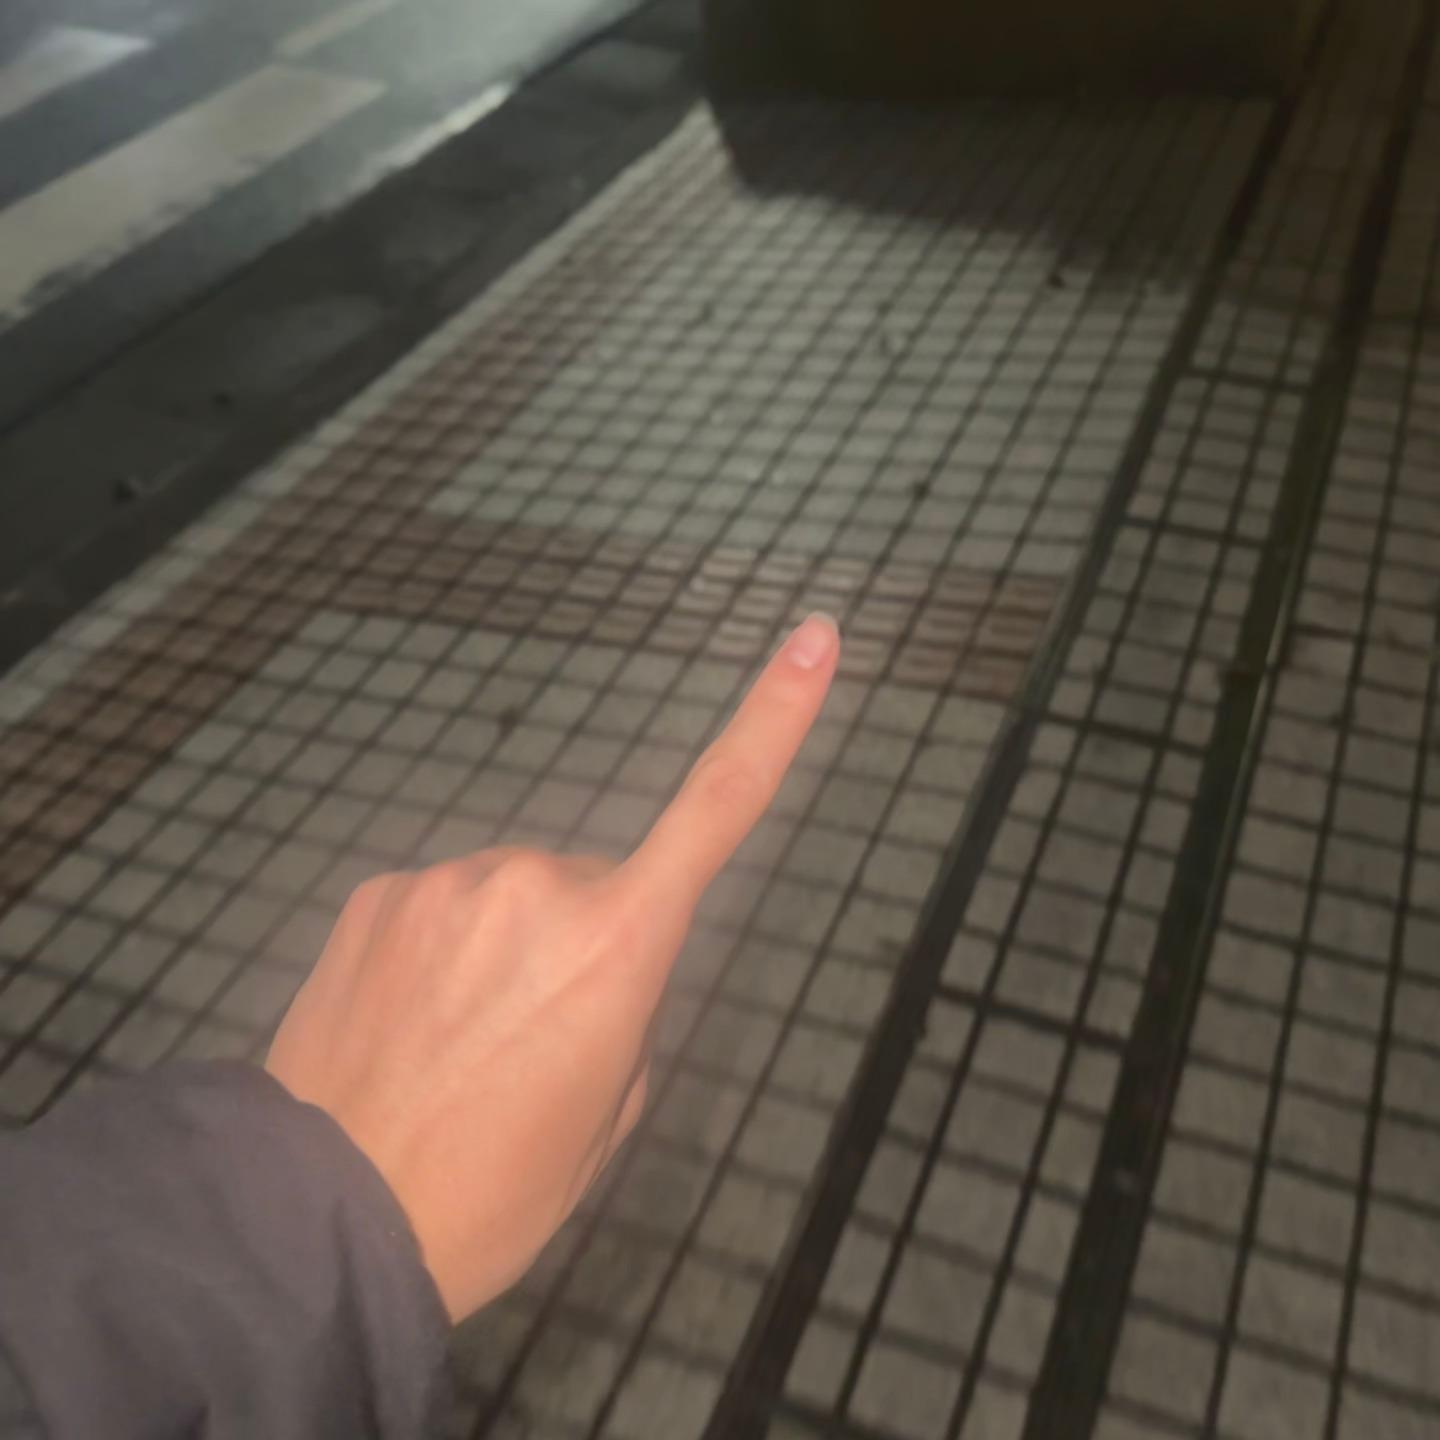without_gloves: (309, 415, 1010, 1270)
